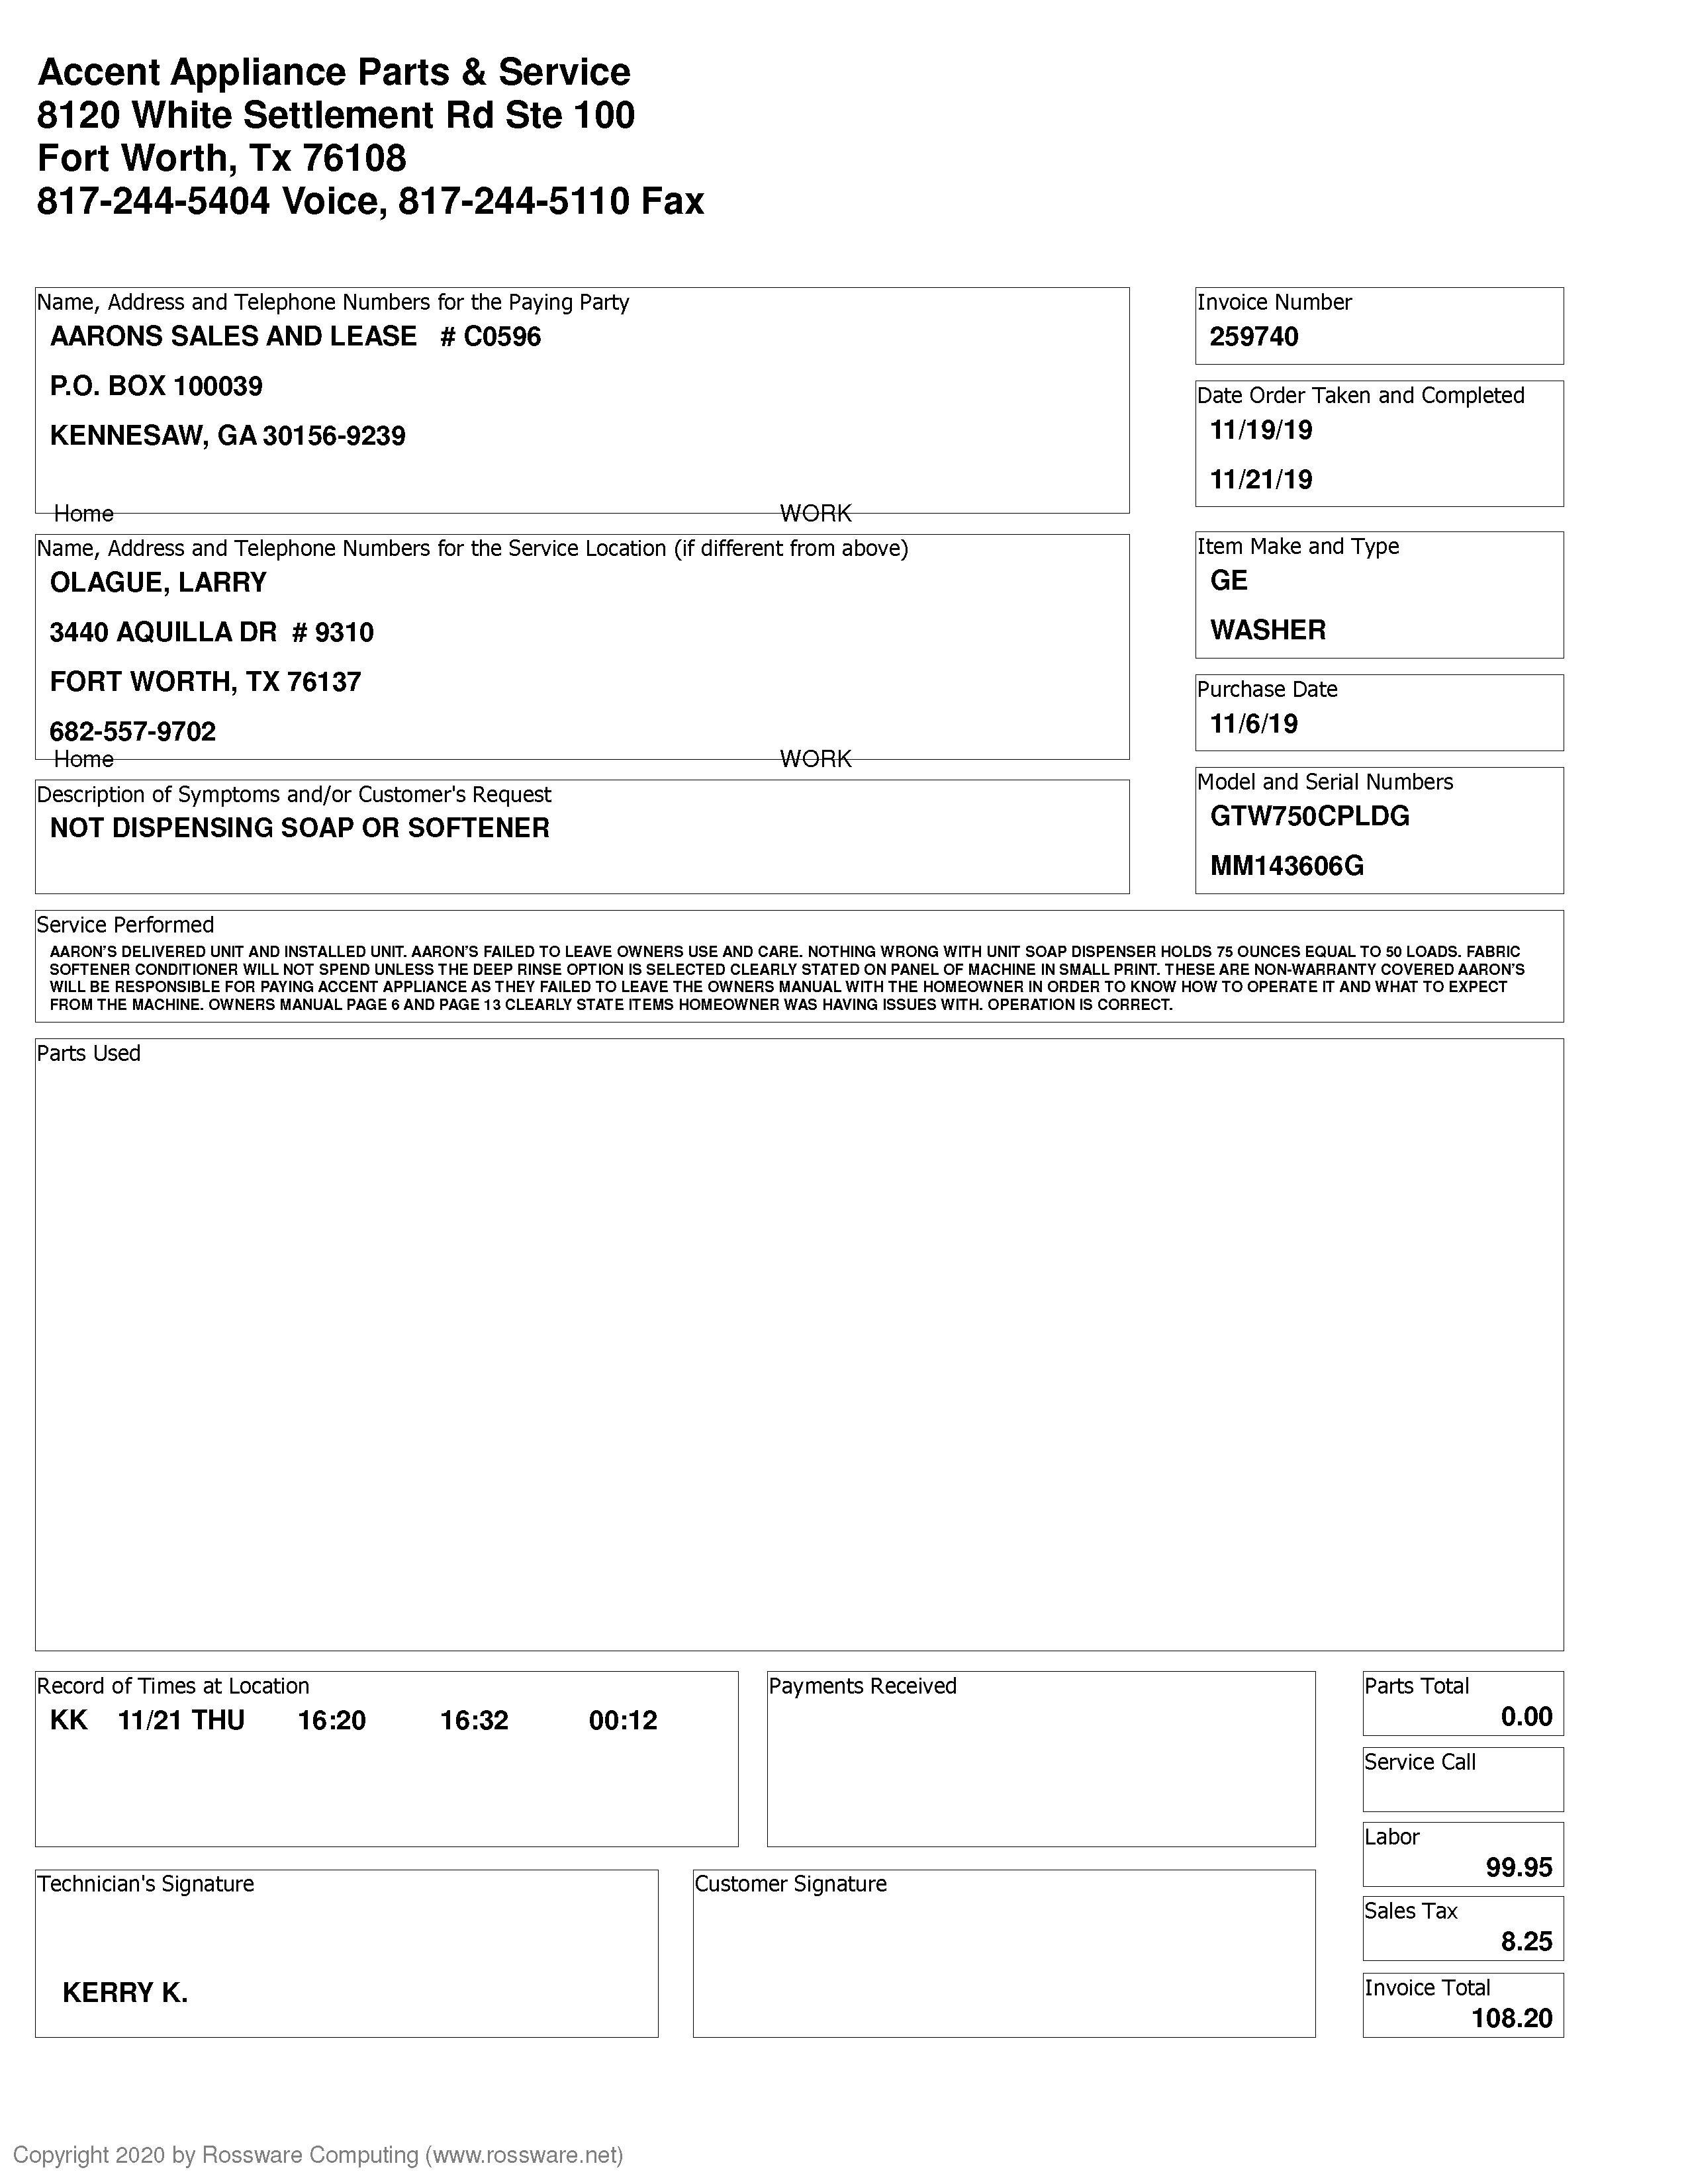B_Paragraph: (48, 938, 1536, 1019), (41, 51, 709, 222), (41, 321, 544, 463), (48, 569, 376, 750), (14, 2127, 626, 2184), (48, 1704, 668, 1755), (48, 808, 562, 851), (1209, 805, 1420, 885), (1202, 418, 1326, 507), (1206, 569, 1339, 647), (48, 1975, 254, 2017), (1468, 1994, 1560, 2040), (1206, 321, 1316, 358), (1202, 706, 1303, 745), (1472, 1847, 1567, 1884), (1489, 1918, 1573, 1961), (778, 743, 855, 778), (768, 502, 860, 530), (59, 743, 117, 784), (41, 498, 119, 528), (1489, 1702, 1557, 1732)
B_SubTitle: (37, 539, 908, 574), (43, 784, 559, 815), (41, 289, 633, 314), (692, 1865, 901, 1907), (35, 1870, 270, 1906), (1199, 388, 1527, 411), (35, 1673, 312, 1698), (1193, 534, 1408, 564), (1202, 773, 1450, 798), (773, 1672, 965, 1704), (1362, 1964, 1495, 2005), (30, 915, 223, 936), (1358, 1895, 1463, 1934), (37, 1042, 149, 1078), (1197, 679, 1349, 704), (1197, 291, 1358, 312), (1364, 1750, 1477, 1780), (1364, 1673, 1473, 1698), (1358, 1824, 1426, 1861)
